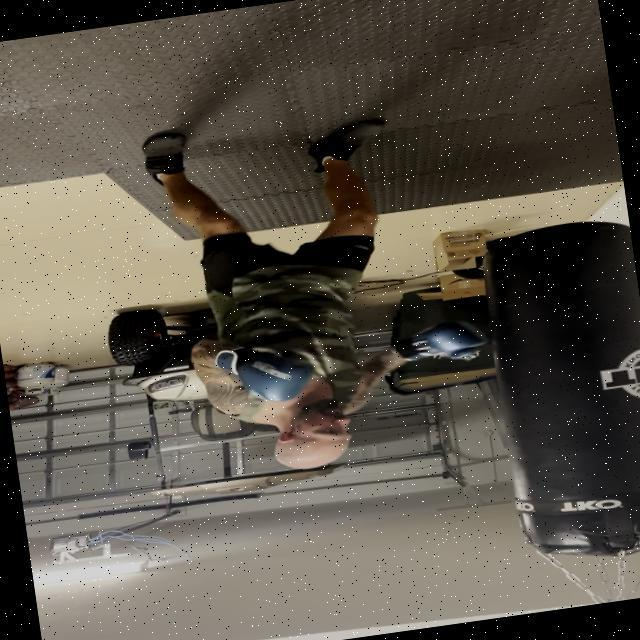bag: (471, 204, 640, 557)
hook: (186, 298, 520, 503)
